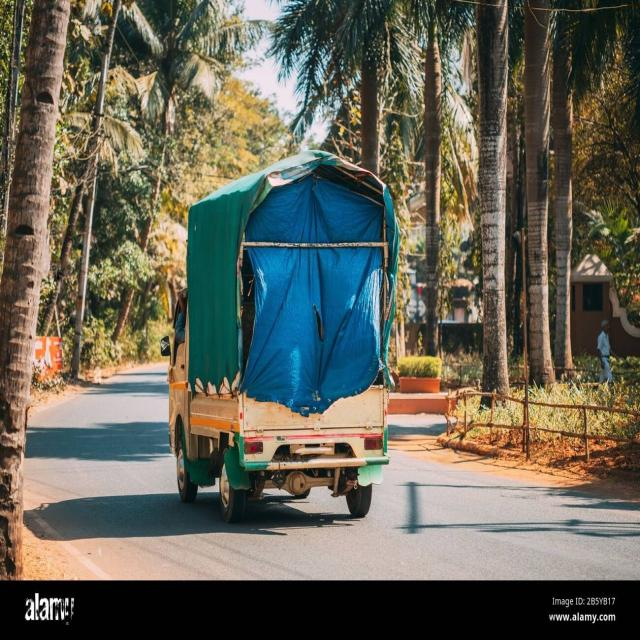truck: (164, 151, 399, 522)
